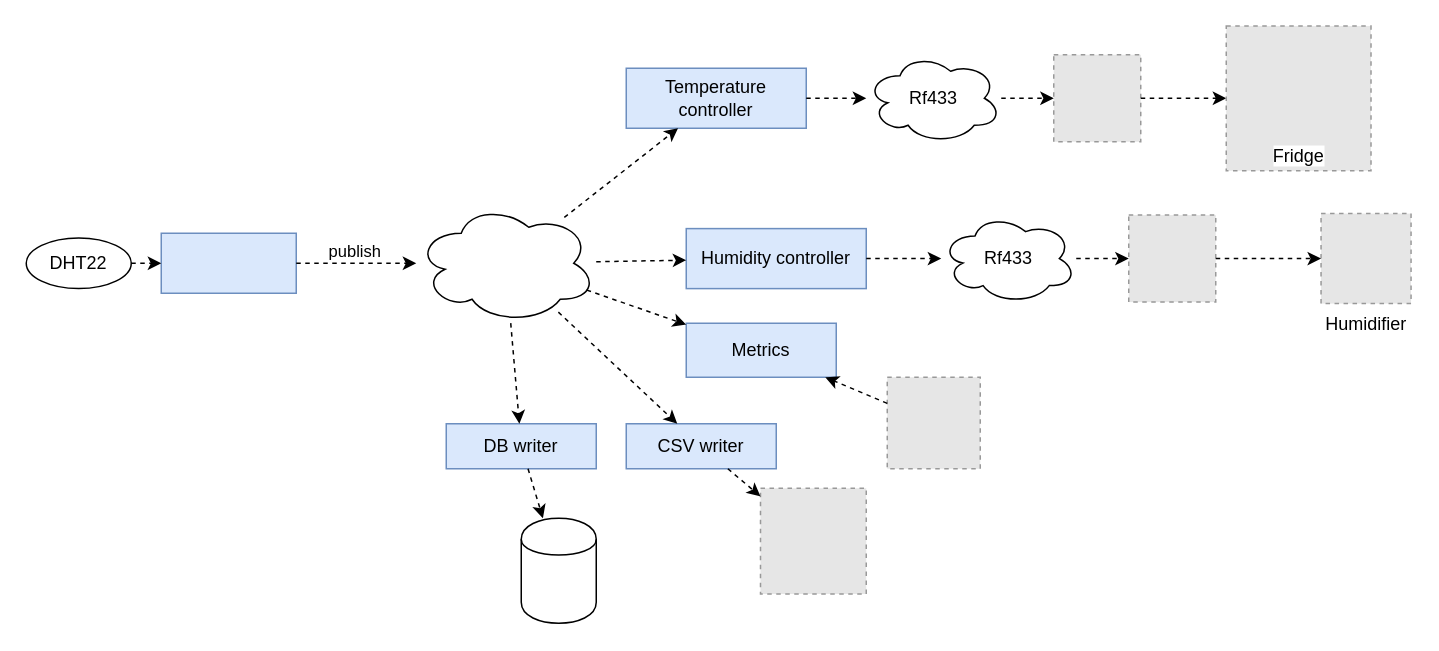
This 1439x651 diagram has some shape labels left out. Grey dashed boxes stand in for pictures. The centre of each missing label's shape, as x and y in pixels:
MQTT broker: pixel 505 262
Sensor: pixel 228 262
